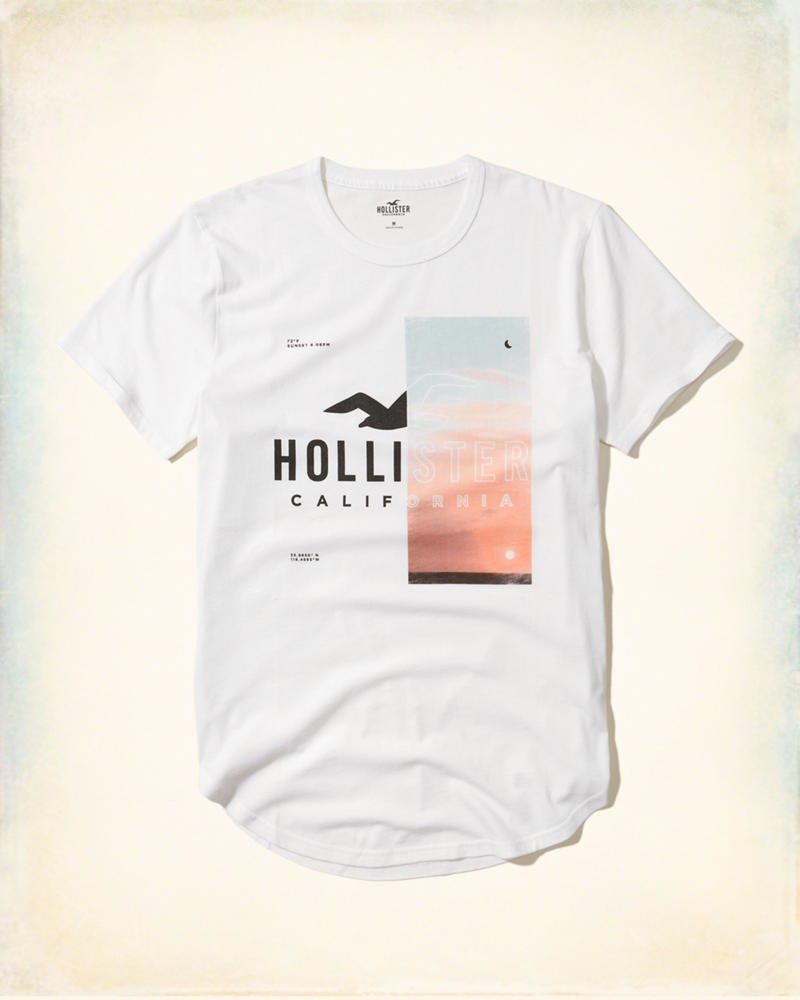teeshirt: (68, 142, 762, 881)
